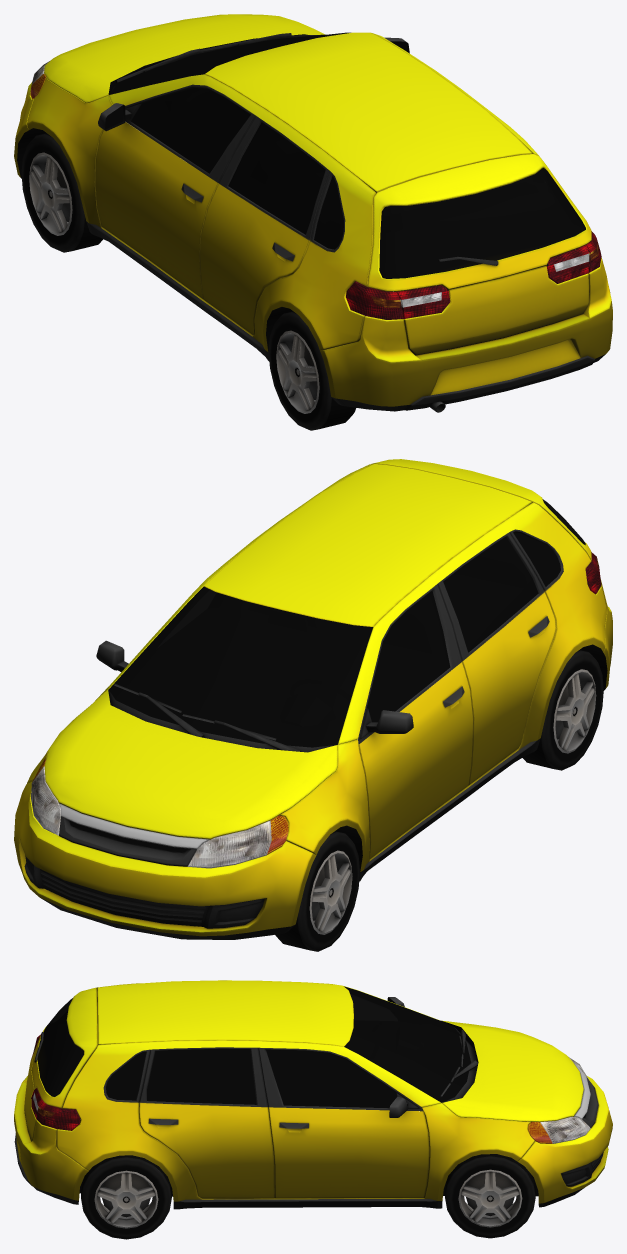
The model's file is pack_1.glb.
3 renders of one model, top to bottom at view 1: azimuth 30°, elevation 25°; view 2: azimuth 150°, elevation 25°; view 3: azimuth 270°, elevation 25°, orthographic. The views are drawn at different scales.
Visible parts, largest first — view 1: pack_1; view 2: pack_1; view 3: pack_1.
Boxes of the visible parts, left/top/right/bottom form: pack_1: left=14, top=14, right=612, bottom=430; pack_1: left=14, top=459, right=612, bottom=951; pack_1: left=14, top=980, right=612, bottom=1239.
Bounding box in the file's own units: 1.94 × 1.5 × 4.4.
4 materials, 3 textured.
